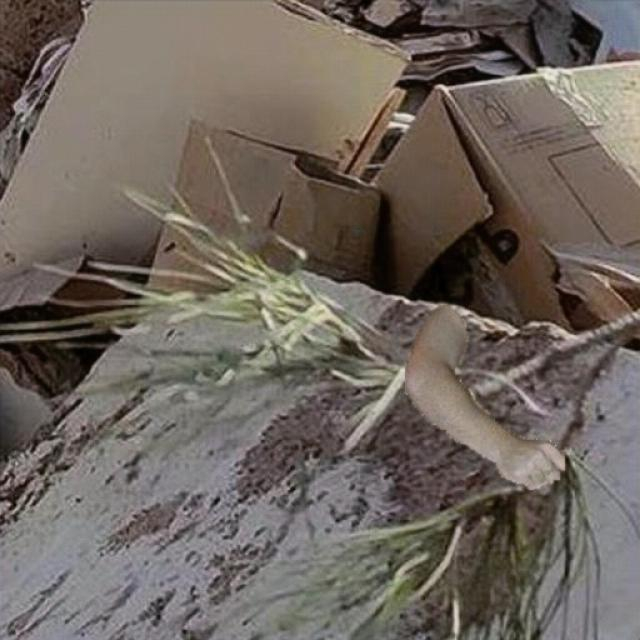Person in Rubble: (405, 304, 564, 490)
